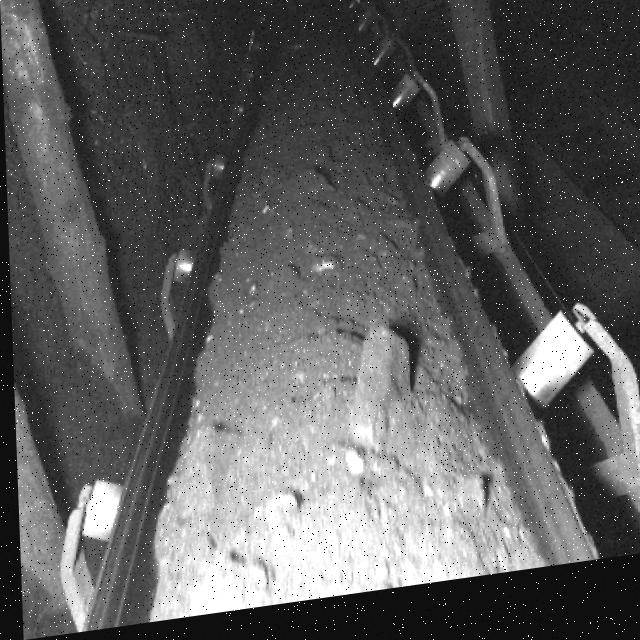large_sized_coal: (336, 331, 412, 460), (165, 433, 239, 522)
